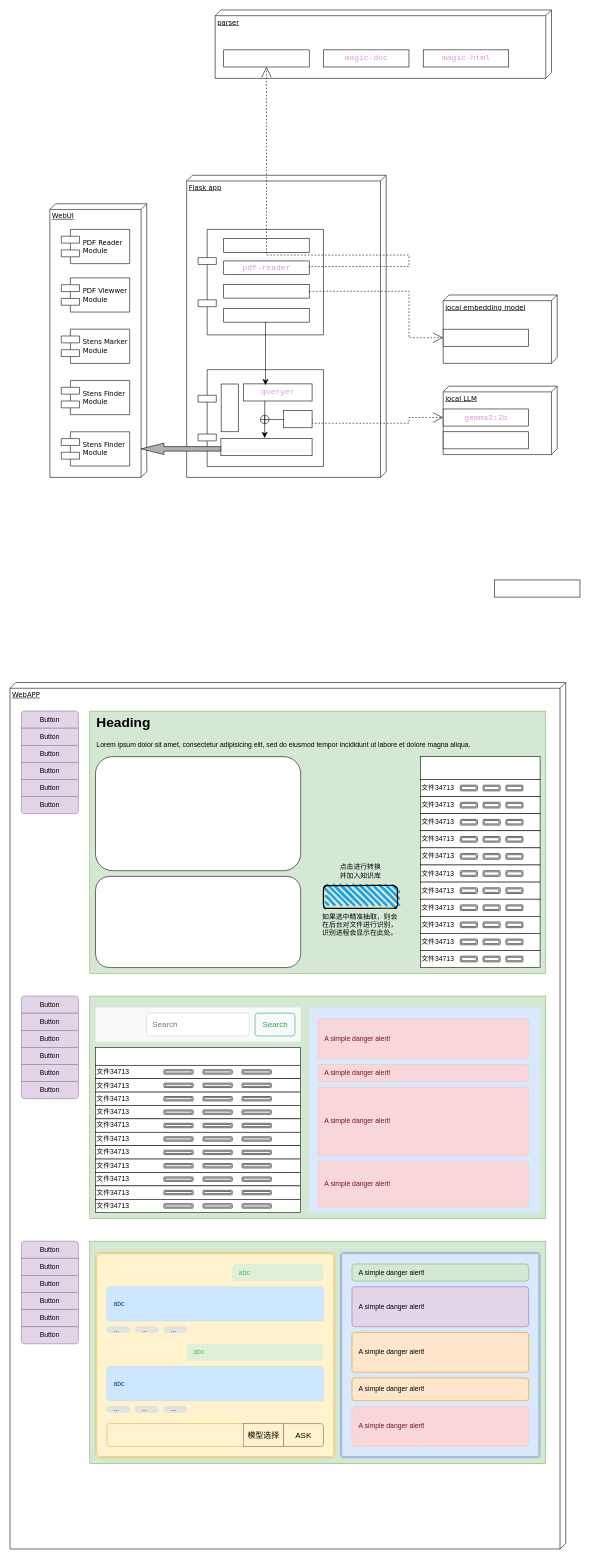
The diagram is 590 pixels wide and 1559 high, and some of its shapes have lost their labels. The shapes that lost their labels are listed below. From the top down, each one's centre as x and y in pixels, then its label:
At pixel 266 58: "magic-pdf".
At pixel 266 245: "uploader".
At pixel 266 291: "embedding".
At pixel 266 315: "vector->faiss".
At pixel 486 337: "all-MiniLM-L6-v2".
At pixel 229 407: "langchain".
At pixel 297 419: "LLM".
At pixel 266 447: "output".
At pixel 486 440: "deepseekr1:1.5b".
At pixel 537 588: "LangChian".
At pixel 480 767: "知识库内文件".
At pixel 198 813: "输入您希望放入知识库的文本内容 此段文本将以txt文件的形式加入知识库 您可以修改默认文件名称".
At pixel 198 922: "上传文件，请直接拖动文件到此处 或点击进行文件添加".
At pixel 197 1024: "Navbar".
At pixel 198 1056: "Top K".
At pixel 214 1434: "输入想要查询的文本".
